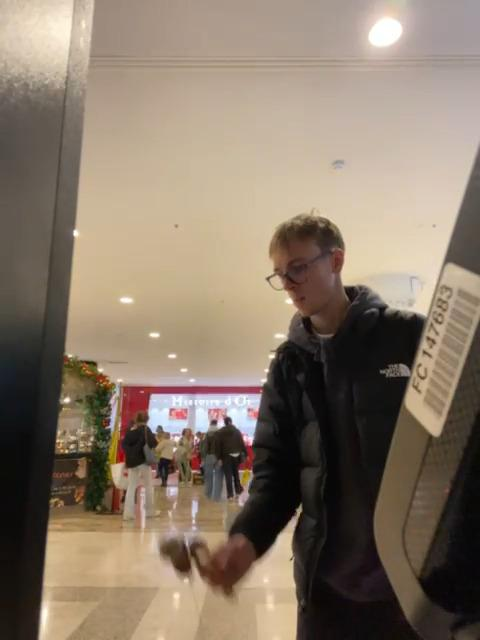kendama_ball: (160, 531, 184, 557)
